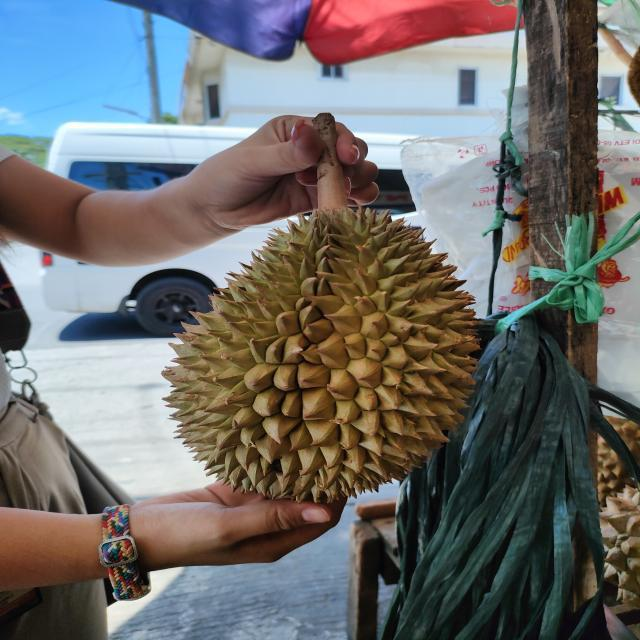mature: (157, 205, 483, 500)
